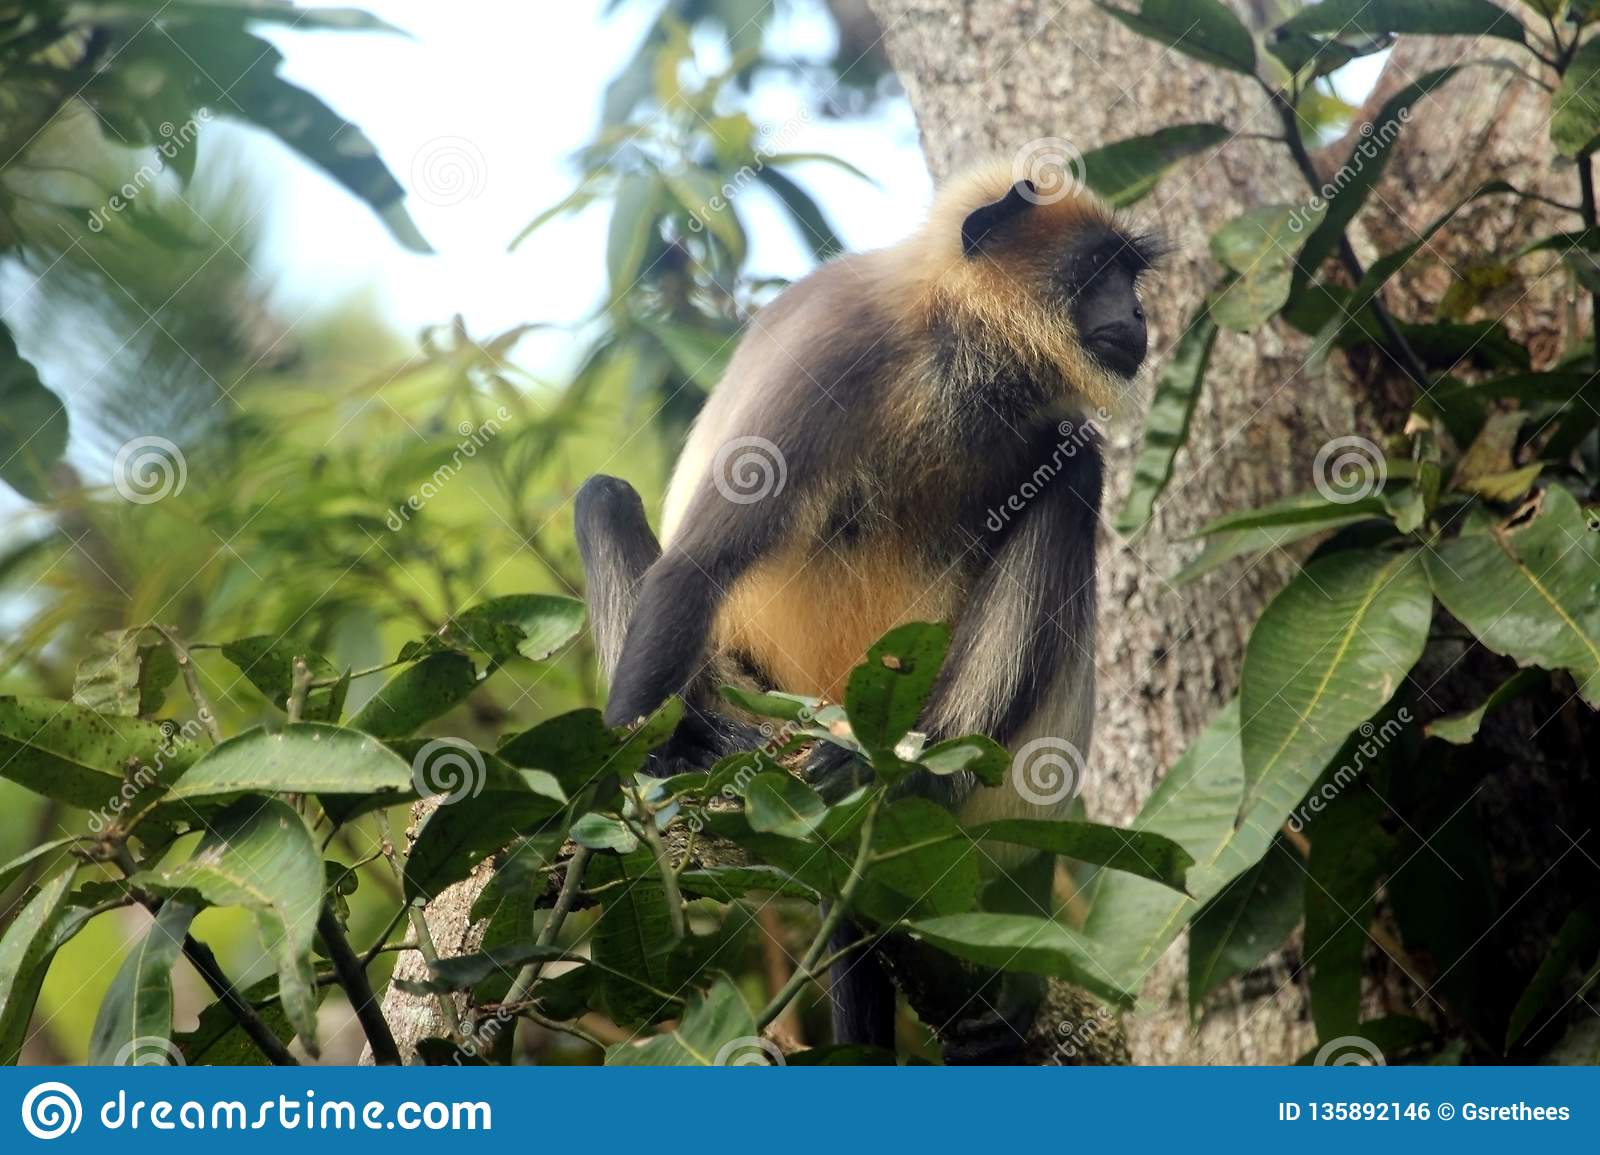monkey: (564, 152, 1164, 924)
